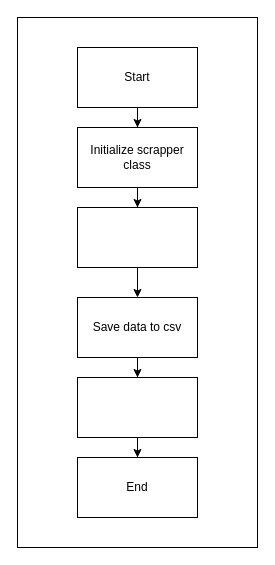
Image size: 275x565. Some labels were removed from this diagram. The shapes that lost their labels are listed below. From the top down, each one's centre as x and y in pixels, then its label:
At (x=137, y=237): "Extract Restraunt and menu info".
At (x=137, y=407): "Convert csv to JSON".
